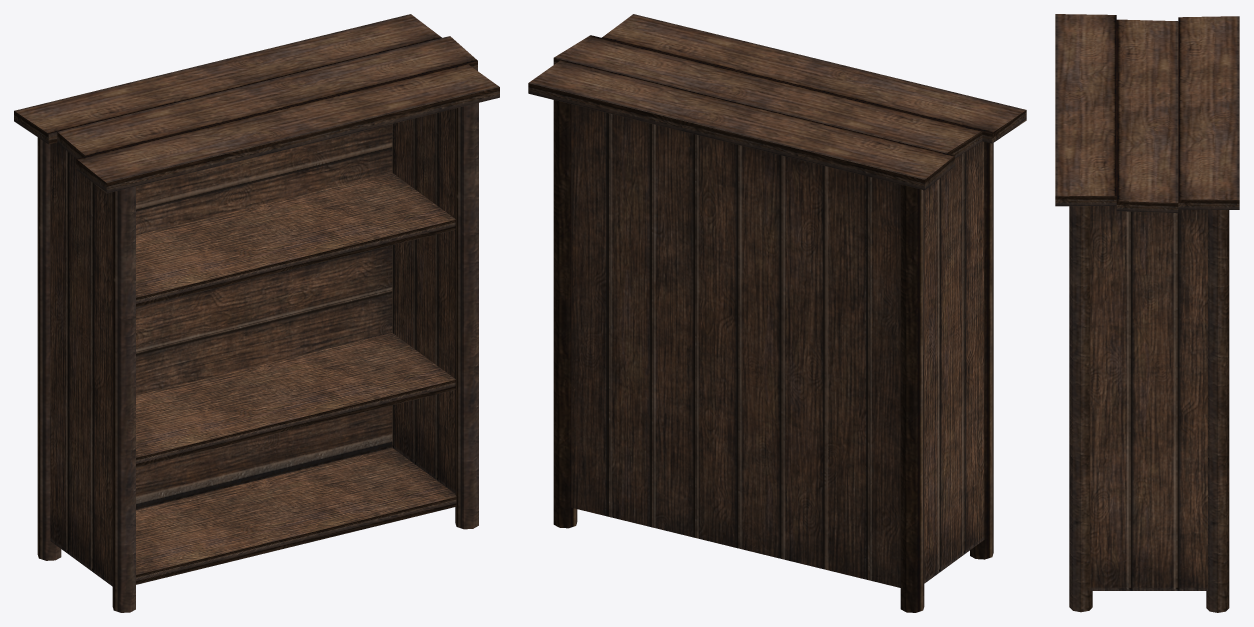
File: GS_BOOKSHELF_OPEN_ORANGE_01_KOZA.glb
The picture shows the model from 3 angles, left to right: view 1: azimuth 30°, elevation 25°; view 2: azimuth 150°, elevation 25°; view 3: azimuth 270°, elevation 25°; orthographic projection. The views are drawn at different scales.
Parts seen in each view (by area): view 1: GS_BOOKSHELF_OPEN_ORANGE_01_KOZA; view 2: GS_BOOKSHELF_OPEN_ORANGE_01_KOZA; view 3: GS_BOOKSHELF_OPEN_ORANGE_01_KOZA.
Boxes of the visible parts, box(x1,y1,x2,y2) form: GS_BOOKSHELF_OPEN_ORANGE_01_KOZA: box(14, 14, 499, 612); GS_BOOKSHELF_OPEN_ORANGE_01_KOZA: box(528, 14, 1026, 612); GS_BOOKSHELF_OPEN_ORANGE_01_KOZA: box(1055, 14, 1239, 612).
Size of the model in its own units: 1.4 by 1.45 by 0.5776.
Materials: 2 (2 with a texture image).
